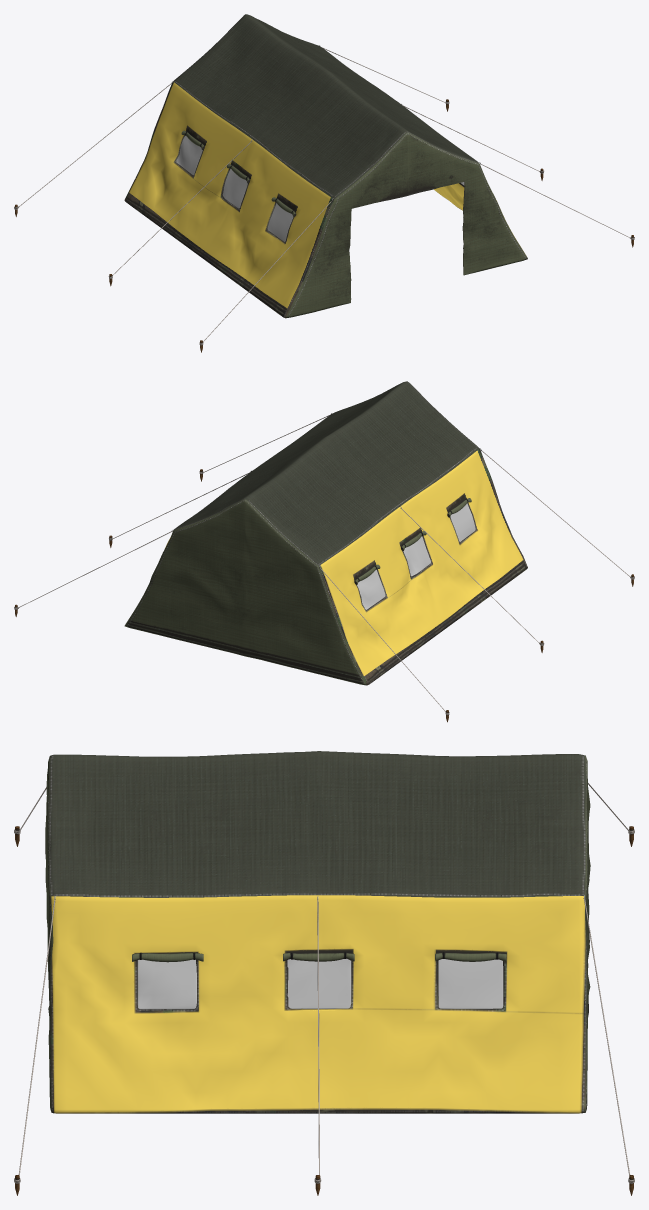
File: tent.fbx
The picture shows the model from 3 angles, top to bottom: view 1: azimuth 30°, elevation 25°; view 2: azimuth 150°, elevation 25°; view 3: azimuth 270°, elevation 25°; orthographic projection. The views are drawn at different scales.
Visible parts, largest first — view 1: Military_tent; view 2: Military_tent; view 3: Military_tent.
Boxes of the visible parts, <box> form: Military_tent: <box>14,14,634,352</box>; Military_tent: <box>14,381,634,722</box>; Military_tent: <box>14,751,634,1195</box>.
Bounding box in the file's own units: 1117 × 400 × 833.
